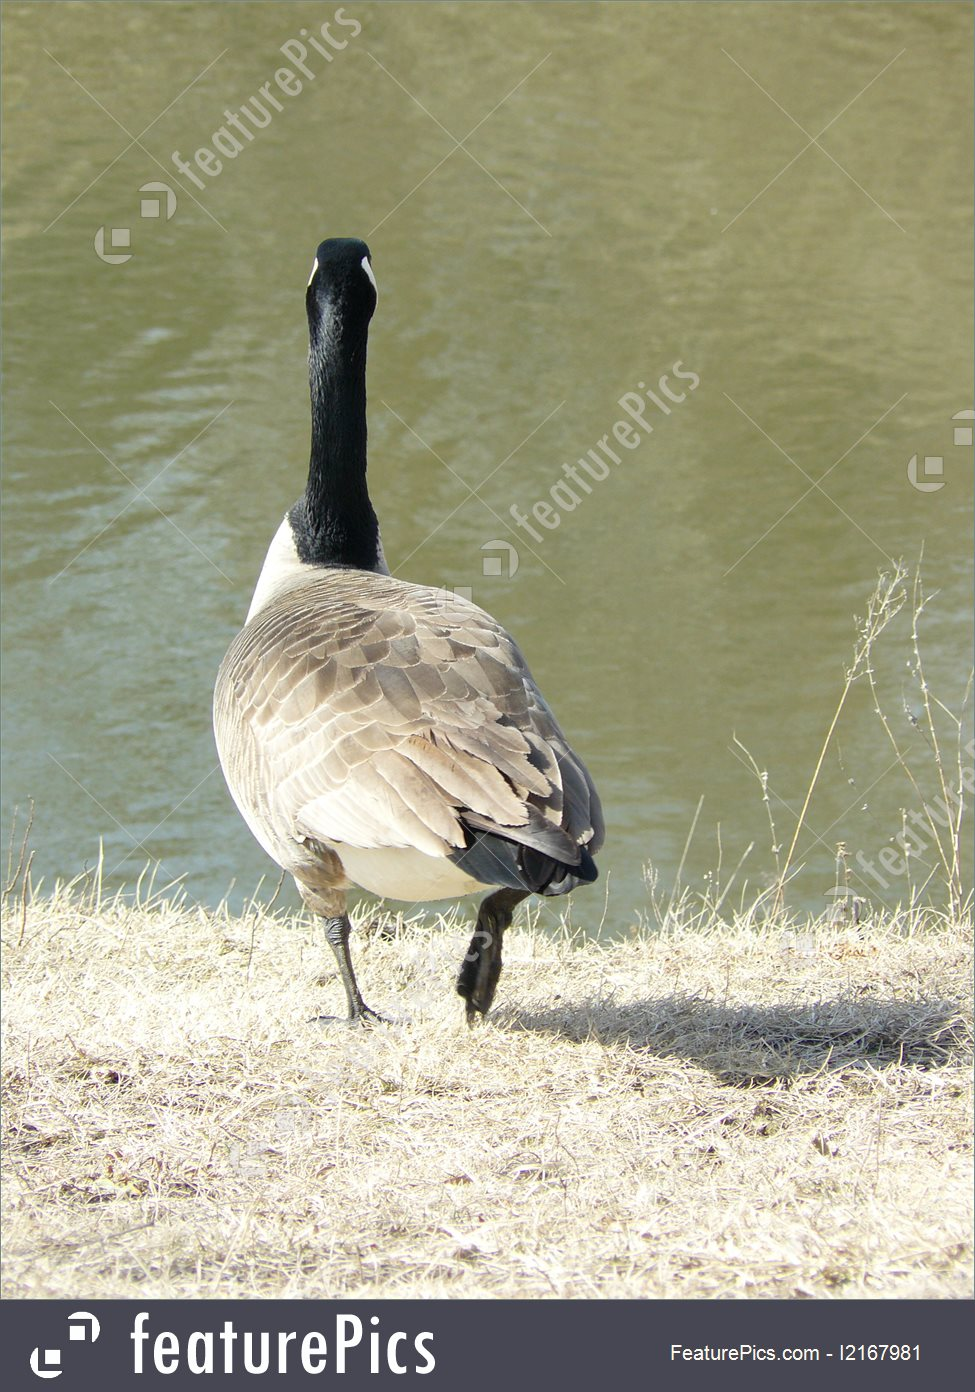goose: (200, 224, 610, 1042)
